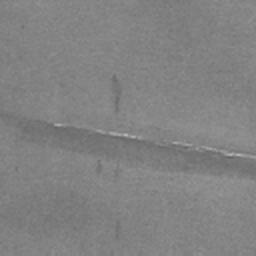Finishing roll printing: (52, 122, 143, 142), (202, 145, 255, 160), (169, 140, 193, 148)
